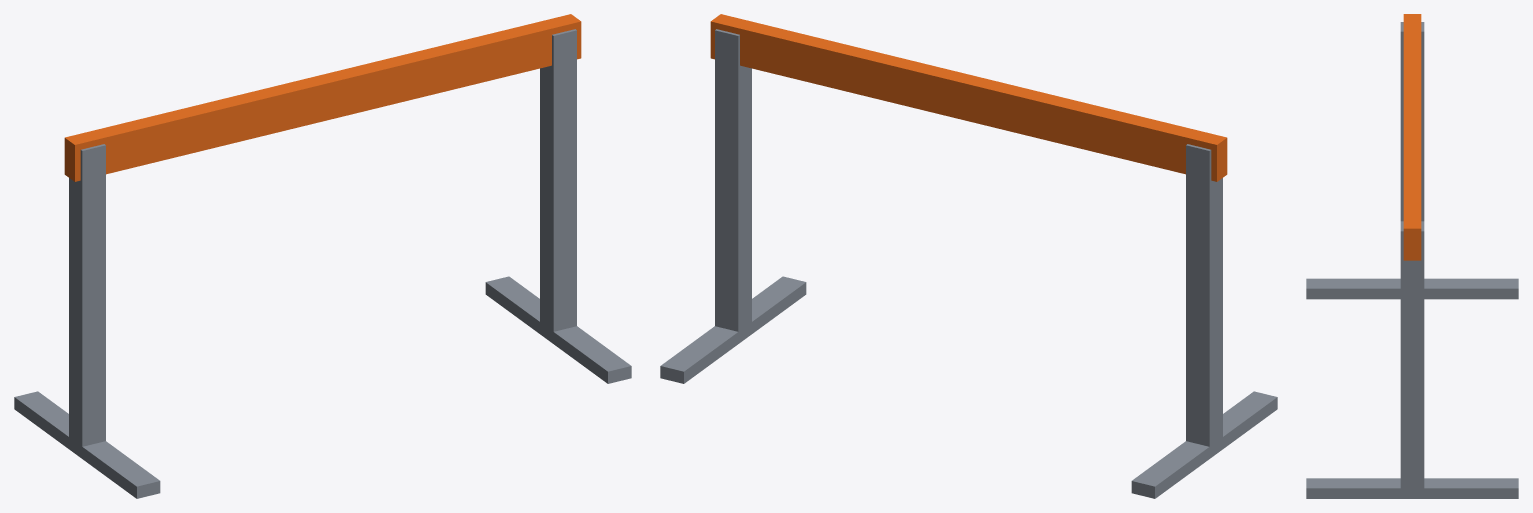
The model's file is hurdle.glb.
3 views of the same model, side by side, from view 1: azimuth 30°, elevation 25°; view 2: azimuth 150°, elevation 25°; view 3: azimuth 270°, elevation 25° (orthographic). The views are drawn at different scales.
Visible parts, largest first — view 1: hurdle; view 2: hurdle; view 3: hurdle.
Part boxes in pixels (x1,y1,x2,y2): hurdle: [14, 14, 631, 498]; hurdle: [660, 14, 1277, 498]; hurdle: [1306, 14, 1518, 498].
Size of the model in its own units: 0.86 by 0.51 by 0.36.
